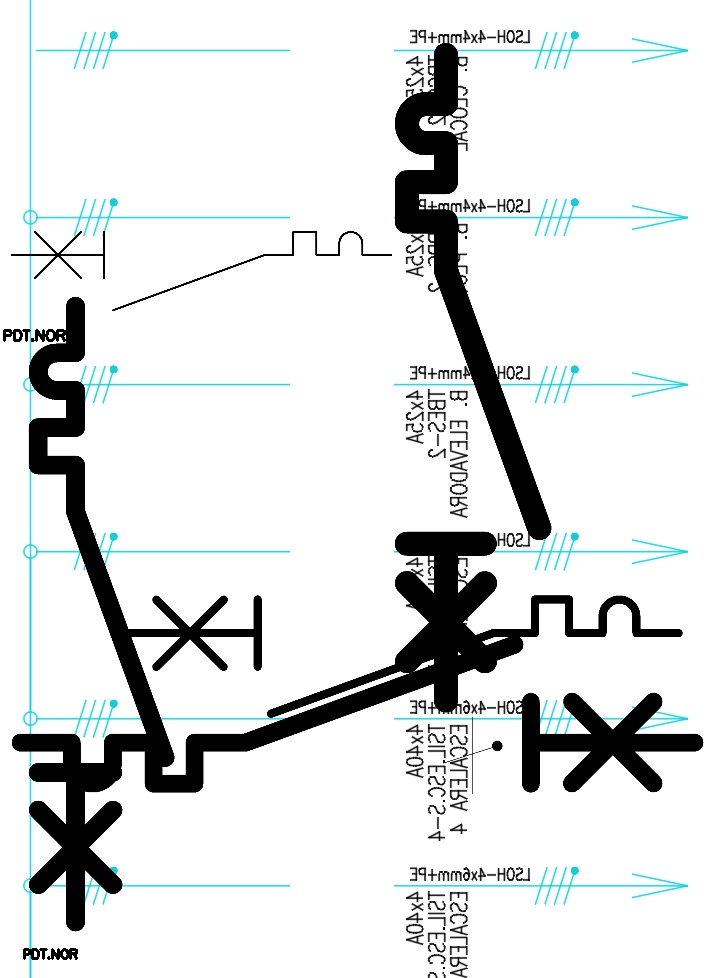interruptor_termomagnetico: (3, 627, 712, 801), (390, 38, 556, 717), (22, 290, 180, 938), (108, 585, 693, 728), (2, 222, 401, 319)
